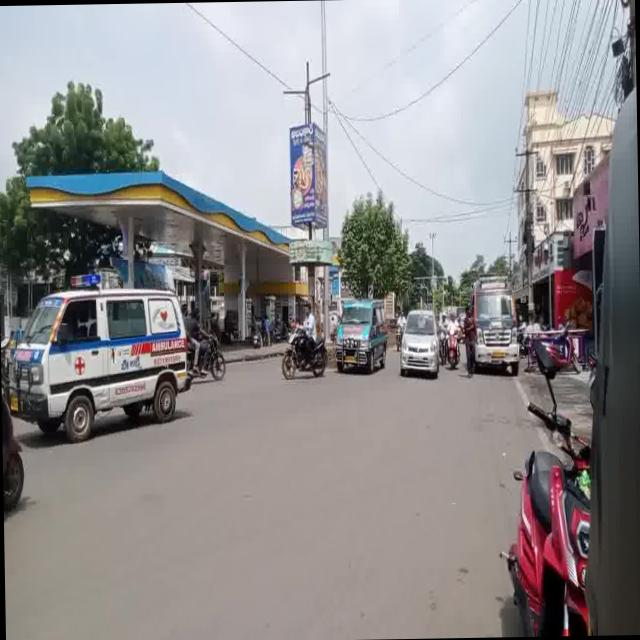ambulance: (2, 263, 205, 448), (471, 273, 523, 387), (338, 302, 388, 377)
